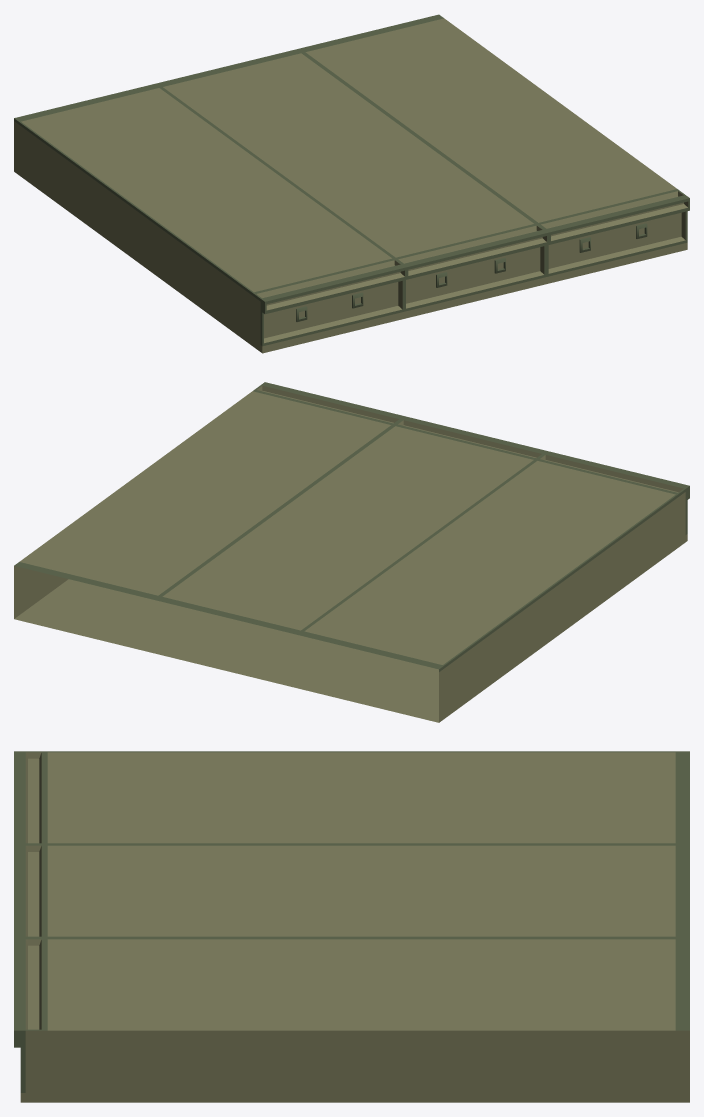
Rendered from solid_ground.fbx.
3 renders of one model, top to bottom at view 1: azimuth 30°, elevation 25°; view 2: azimuth 150°, elevation 25°; view 3: azimuth 270°, elevation 25°, orthographic. The views are drawn at different scales.
Visible parts, largest first — view 1: solid_ground_main, solid_ground_decor; view 2: solid_ground_main; view 3: solid_ground_main.
Part boxes in pixels (x1,y1,x2,y2): solid_ground_main: (14, 14, 689, 353); solid_ground_decor: (296, 223, 647, 321); solid_ground_main: (14, 382, 689, 722); solid_ground_main: (14, 751, 689, 1102).
Bounding box in the file's own units: 5.03 × 0.6041 × 5.14.
